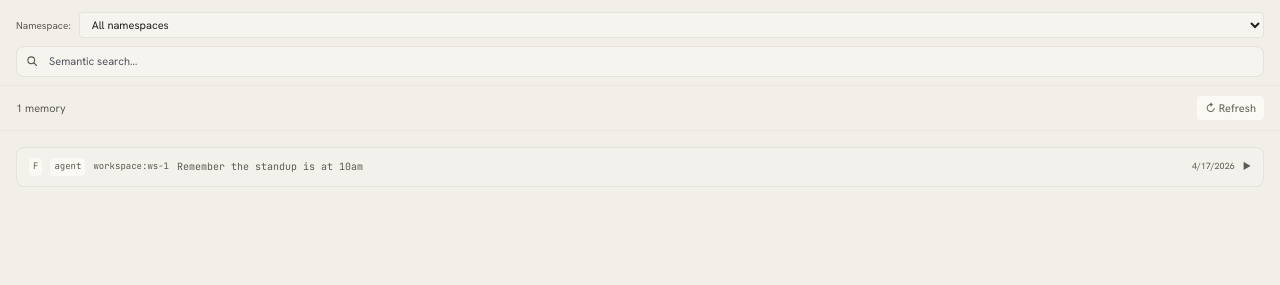
MemoryInspectorPanel — row badges › expanding a row shows full content + Forget button
The image size is (1280, 285).
Click the button that starts with "agent" at (68, 167), box [17,148,1263,186]
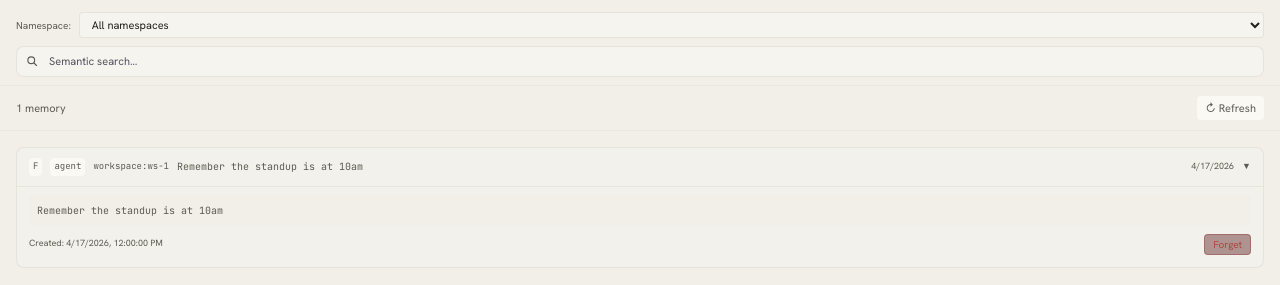
Expected: the button with aria-label "Forget memory" is shown, [1204,234,1251,254]
